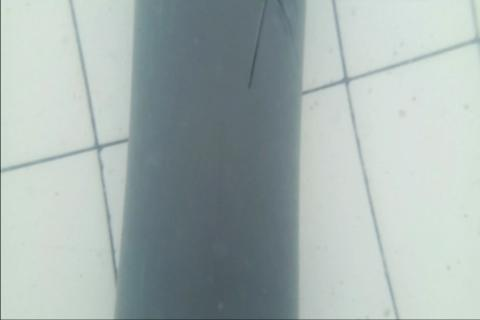keretakan: (247, 0, 296, 93)
